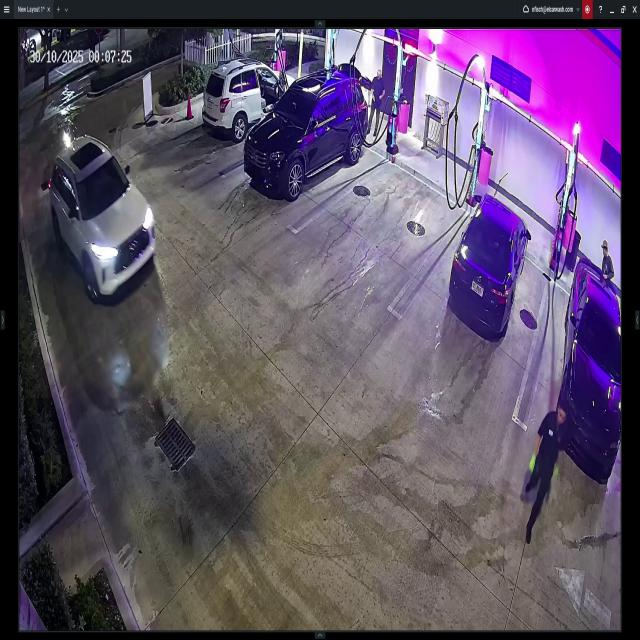Car: (51, 138, 157, 301), (244, 70, 368, 202), (558, 261, 622, 477), (448, 195, 530, 337), (201, 62, 296, 137)
